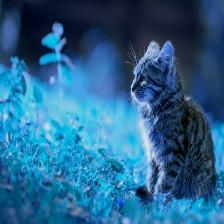kedo: (130, 40, 216, 205)
